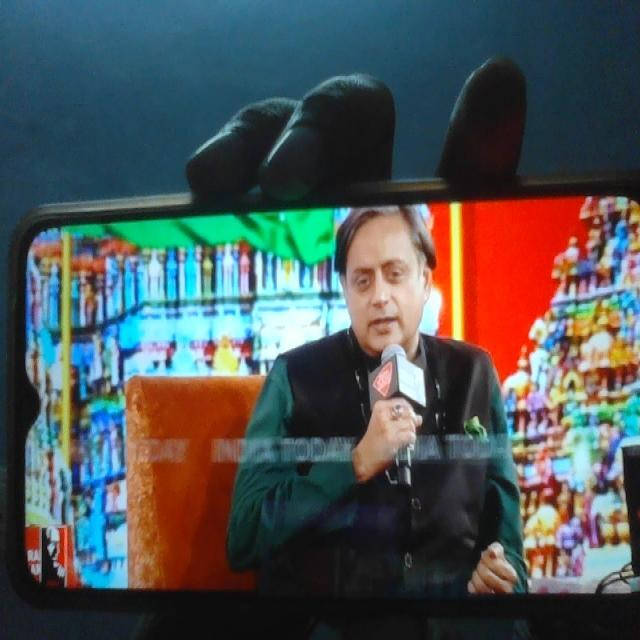fake: (325, 172, 442, 393)
